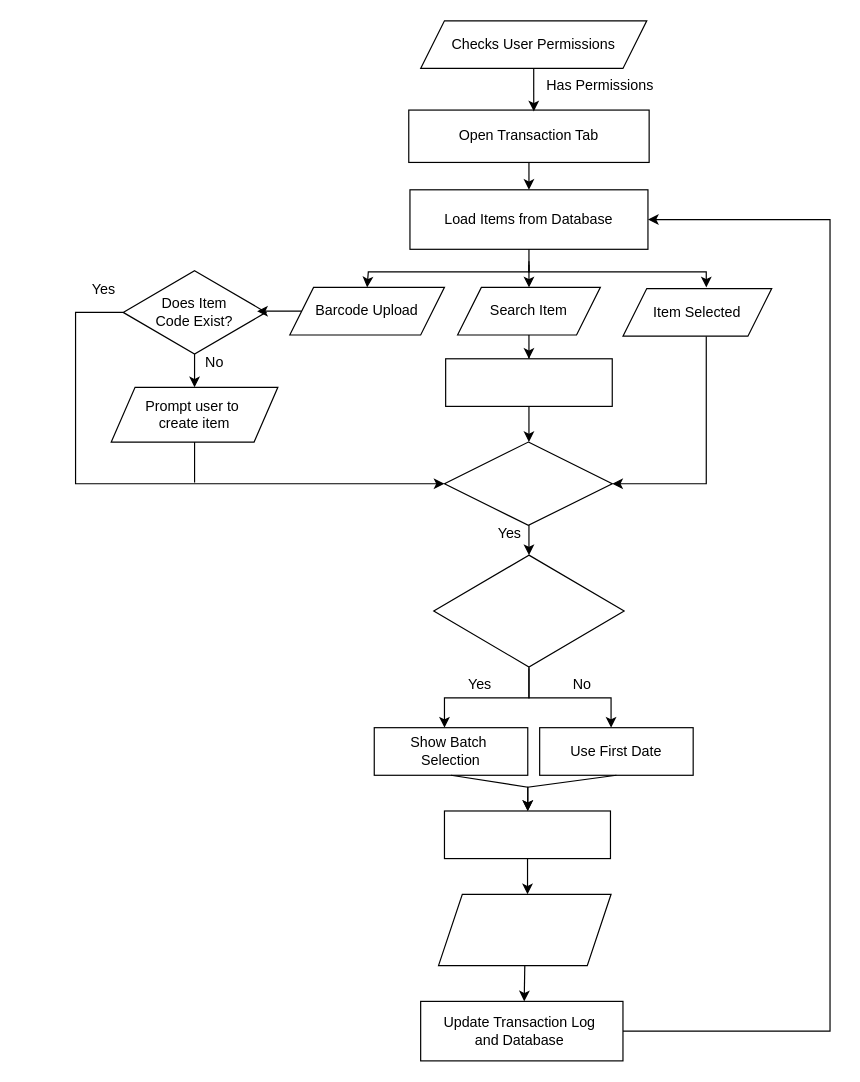
Some shapes in this 860 by 1082 pixel diagram are drawn without their labels. Each missing label, with the centre of its shape:
"Add Item To Transactions" belongs at (x=526, y=834).
"Add Item?" belongs at (x=527, y=483).
"Display Filtered Item List" belongs at (x=528, y=382).
"Do Differing Expiry Dates Exist?" belongs at (x=528, y=610).
"Transaction Quantity" belongs at (x=524, y=929).
